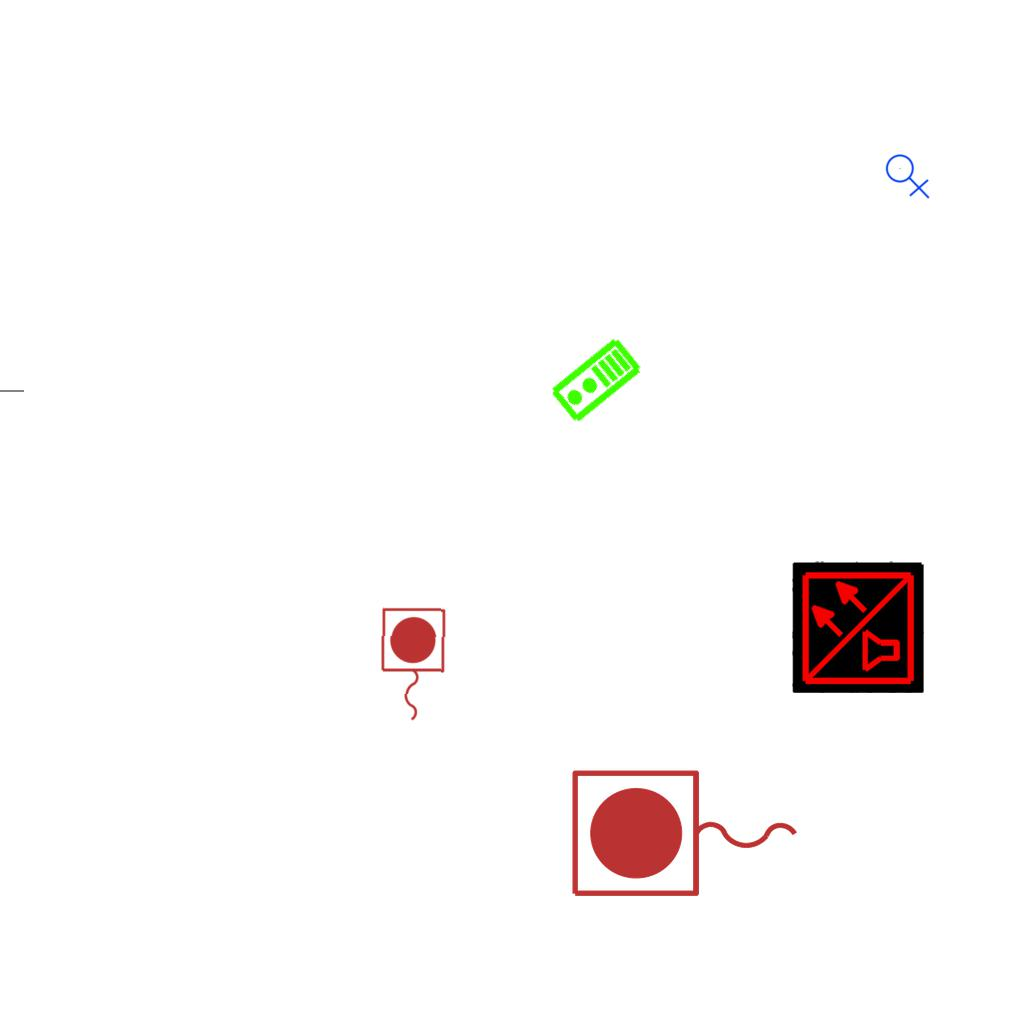Elektroanschluss_allgemein_230V_Geraeteanschlussdose_230V: (885, 150, 932, 199)
Gegensprechanlage_mit_Video: (547, 335, 646, 427)
OKW_Multisensormelder_(Kombination_optischer_Rauch-Kahlenmonoxid_Waerme-Melder): (792, 561, 924, 693)
Zugtaster: (564, 763, 808, 907), (374, 603, 450, 727)
